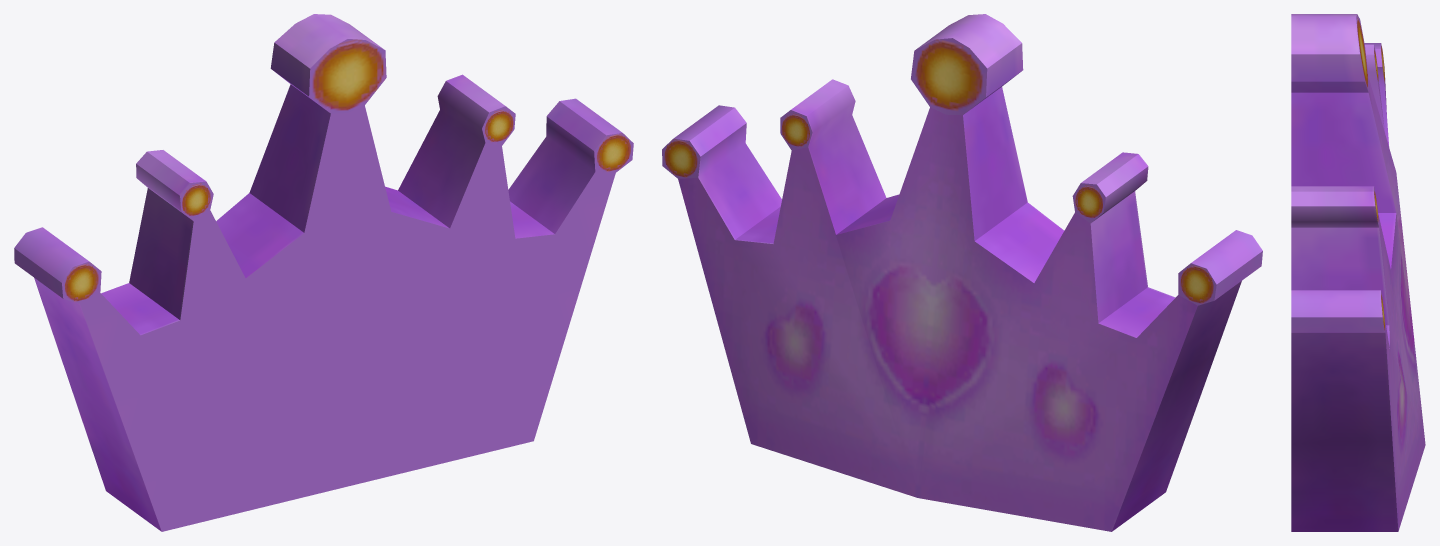
Rendered from furni_0200139_01.FBX.
3 views of the same model, side by side, from view 1: azimuth 30°, elevation 25°; view 2: azimuth 150°, elevation 25°; view 3: azimuth 270°, elevation 25° (orthographic). The views are drawn at different scales.
Visible parts, largest first — view 1: furni_0200139_01; view 2: furni_0200139_01; view 3: furni_0200139_01.
Part boxes in pixels (<box>): furni_0200139_01: <box>14,14,633,531</box>; furni_0200139_01: <box>662,14,1262,531</box>; furni_0200139_01: <box>1291,14,1425,531</box>.
Size of the model in its own units: 66.24 by 49.55 by 14.07.
